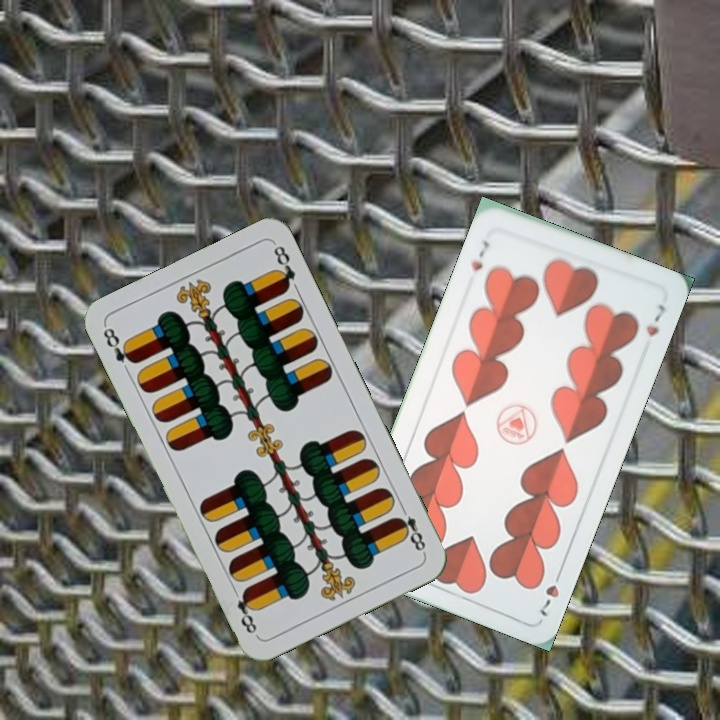E8: (392, 501, 429, 557), (99, 323, 139, 367)
H7: (536, 564, 565, 620), (467, 236, 493, 274)
